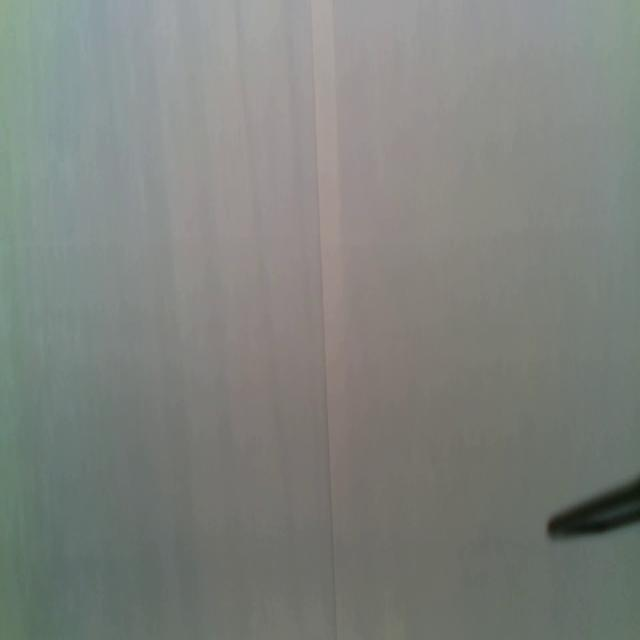crease: (308, 0, 340, 640)
